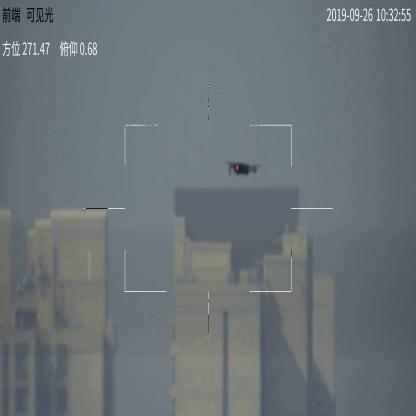uav: (223, 158, 263, 176)
